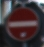No entry: (5, 6, 39, 41)
